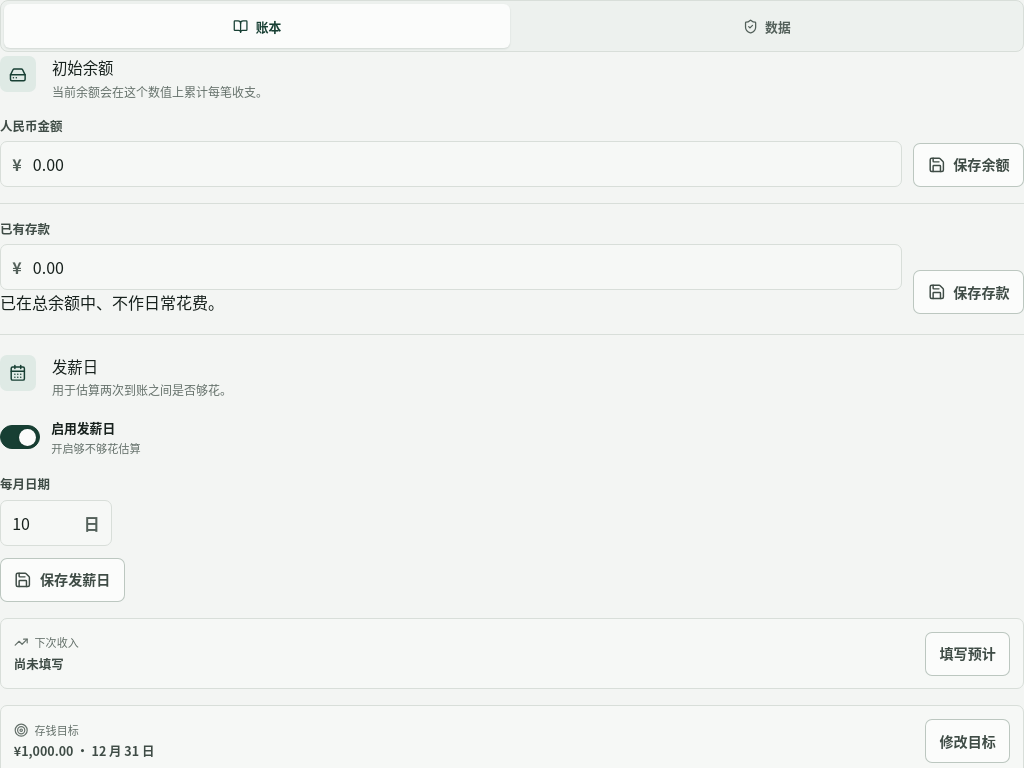
Test: SettingsDialog › keeps restore available for a local-only ledger
Click the button "数据".
click(767, 26)  # box [514,4,1020,48]
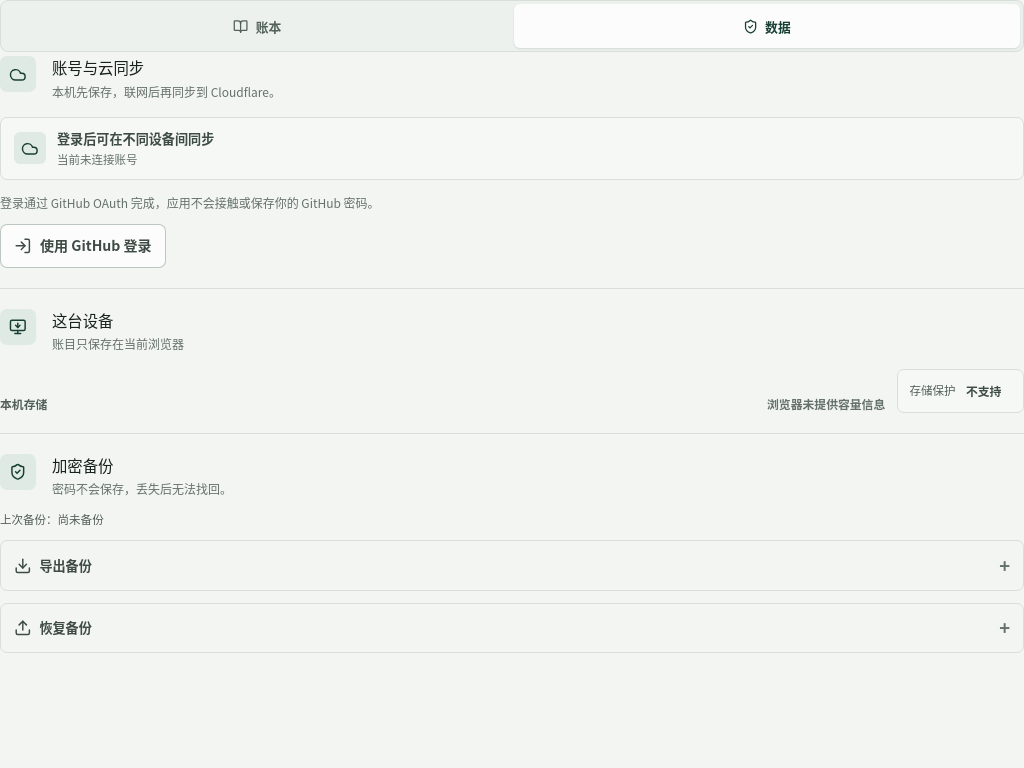
Expected: the element with id "restore-file" is enabled, [0,603,1023,653]
